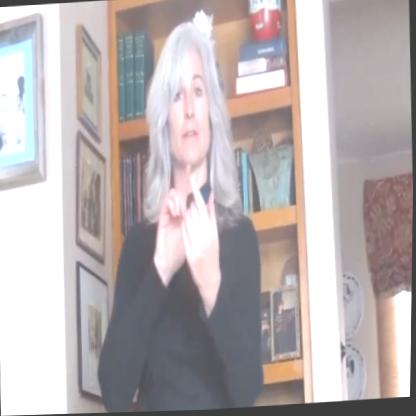NiceToMeetYou: (146, 169, 229, 313)
